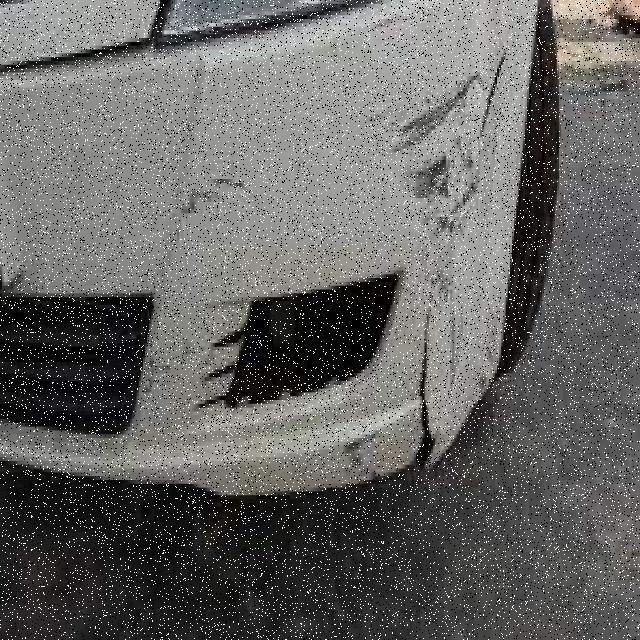front-bumper-dent: (0, 19, 549, 507)
